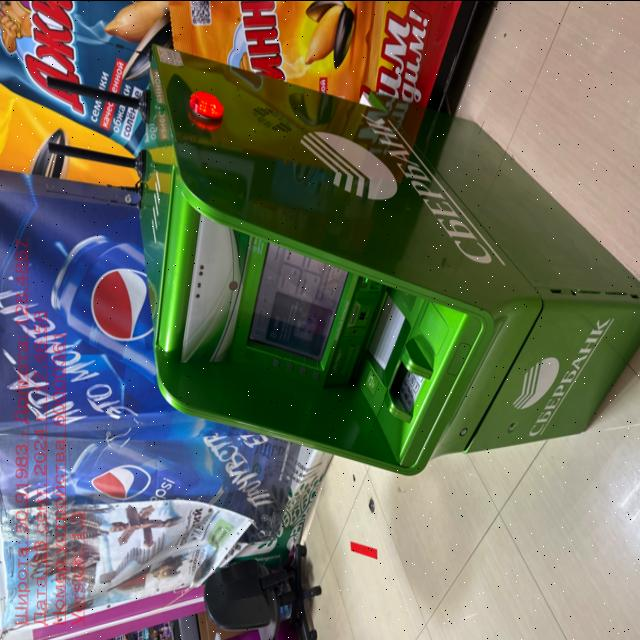bank: (139, 46, 640, 476)
